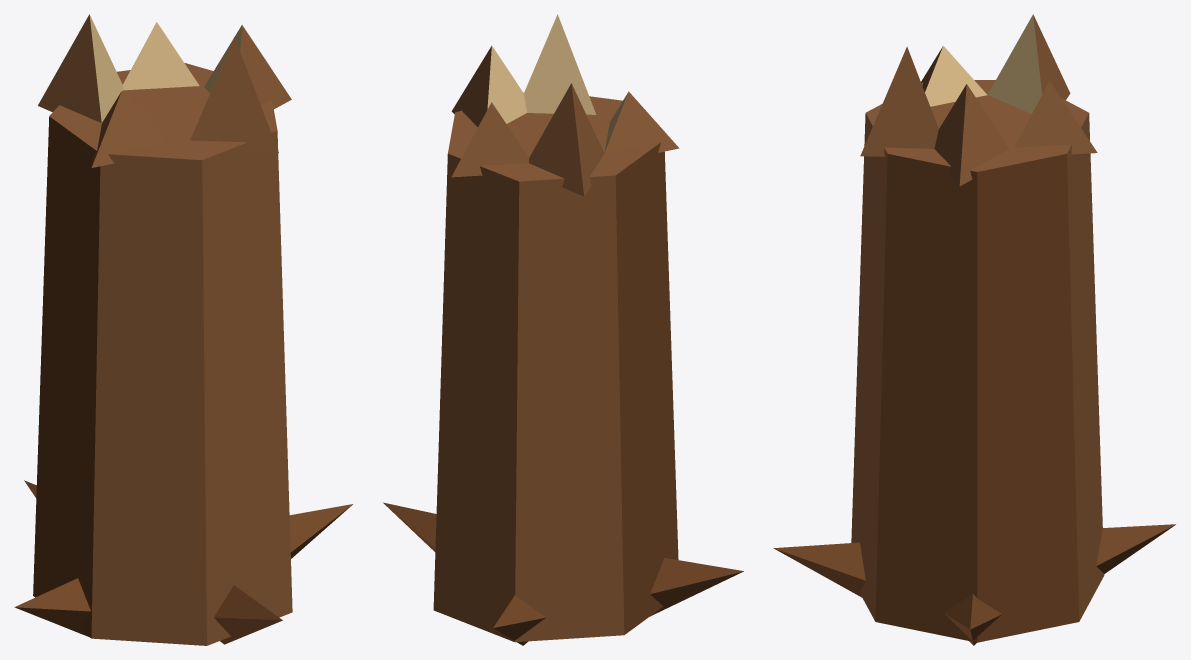
The model's file is stump_oldTall.glb.
3 views of the same model, side by side, from view 1: azimuth 30°, elevation 25°; view 2: azimuth 150°, elevation 25°; view 3: azimuth 270°, elevation 25° (orthographic). The views are drawn at different scales.
Visible parts, largest first — view 1: stump_oldTall; view 2: stump_oldTall; view 3: stump_oldTall.
Part boxes in pixels (<box>): stump_oldTall: <box>14,14,352,645</box>; stump_oldTall: <box>383,14,743,645</box>; stump_oldTall: <box>773,14,1175,645</box>.
Bounding box in the file's own units: 0.4332 × 0.6775 × 0.4336.
Materials: 1 (1 with a texture image).
